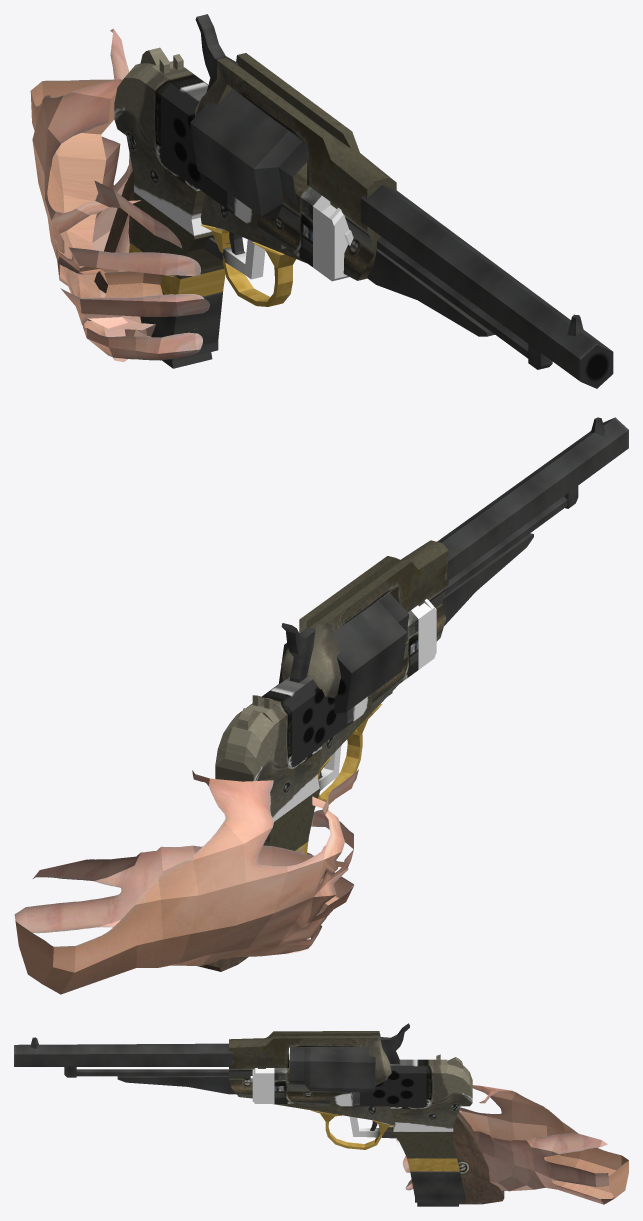
The model's file is hand.obj.
The picture shows the model from 3 angles, top to bottom: view 1: azimuth 30°, elevation 25°; view 2: azimuth 150°, elevation 25°; view 3: azimuth 270°, elevation 25°; orthographic projection. The views are drawn at different scales.
Parts seen in each view (by area): view 1: mesh, gun, Cube, Cylinder, Cylinder.001, slide, Cube.003, Cylinder.002, Cube.002, Cube.001; view 2: mesh, Cube, Cylinder, gun, slide, Cylinder.001, Cube.003, Cylinder.002, Cube.001, Cube.002; view 3: mesh, gun, Cube, Cylinder, slide, Cylinder.001, Cube.003, Cylinder.002, Cube.002, Cube.001.
Boxes of the visible parts, box(x1,y1,x2,y2) form: mesh: box(30, 28, 209, 362); gun: box(114, 104, 349, 361); Cube: box(94, 53, 396, 293); Cylinder: box(361, 185, 613, 388); Cylinder.001: box(190, 88, 307, 218); slide: box(114, 47, 348, 259); Cube.003: box(367, 249, 494, 336); Cylinder.002: box(377, 237, 528, 358); Cube.002: box(200, 224, 295, 306); Cube.001: box(195, 14, 238, 91); mesh: box(14, 769, 358, 994); Cube: box(197, 540, 448, 971); Cylinder: box(437, 417, 628, 581); gun: box(215, 637, 436, 854); slide: box(215, 599, 436, 775); Cylinder.001: box(279, 593, 409, 713); Cube.003: box(442, 533, 533, 625); Cylinder.002: box(445, 496, 567, 595); Cube.001: box(281, 623, 315, 682); Cube.002: box(317, 704, 382, 804); mesh: box(396, 1085, 628, 1204); gun: box(252, 1092, 472, 1202); Cube: box(229, 1031, 504, 1204); Cylinder: box(14, 1043, 232, 1066); slide: box(252, 1054, 472, 1095); Cylinder.001: box(289, 1046, 375, 1092); Cube.003: box(117, 1076, 236, 1094); Cylinder.002: box(76, 1069, 228, 1076); Cube.002: box(311, 1110, 393, 1149); Cube.001: box(380, 1023, 409, 1063).
Bounding box in the file's own units: 5.73 × 8.15 × 25.61.
3 materials, 3 textured.
